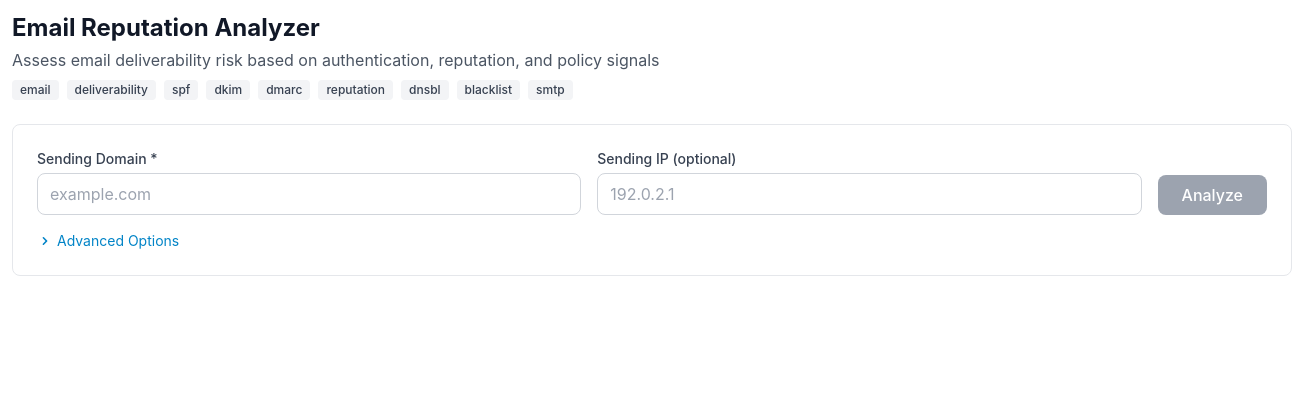
EmailReputationTool › shows advanced options when clicked
Click the button "Advanced Options": (108, 241) [37,231,179,251]
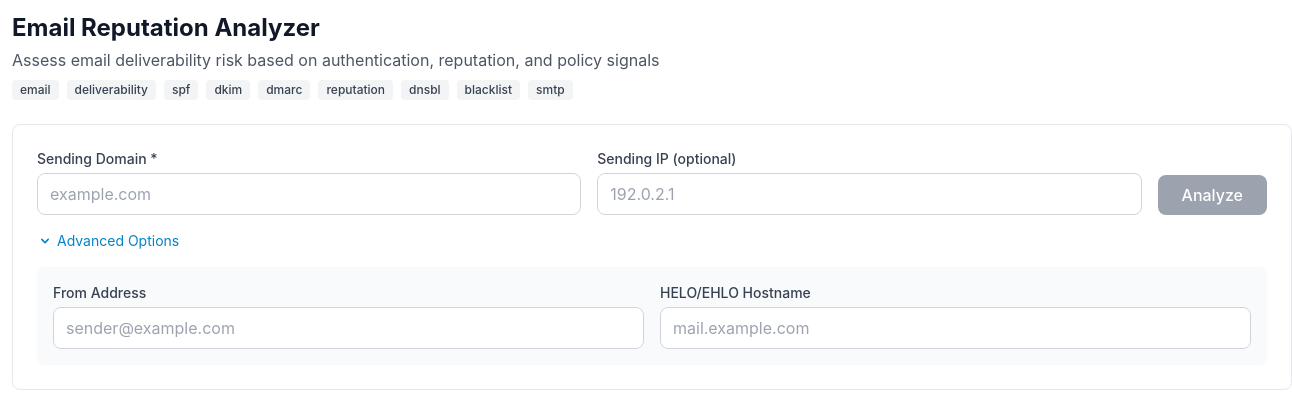
Expected: the field labelled "From Address" is shown, [53,307,644,349]
Expected: the field labelled "HELO/EHLO Hostname" is shown, [660,307,1251,349]
